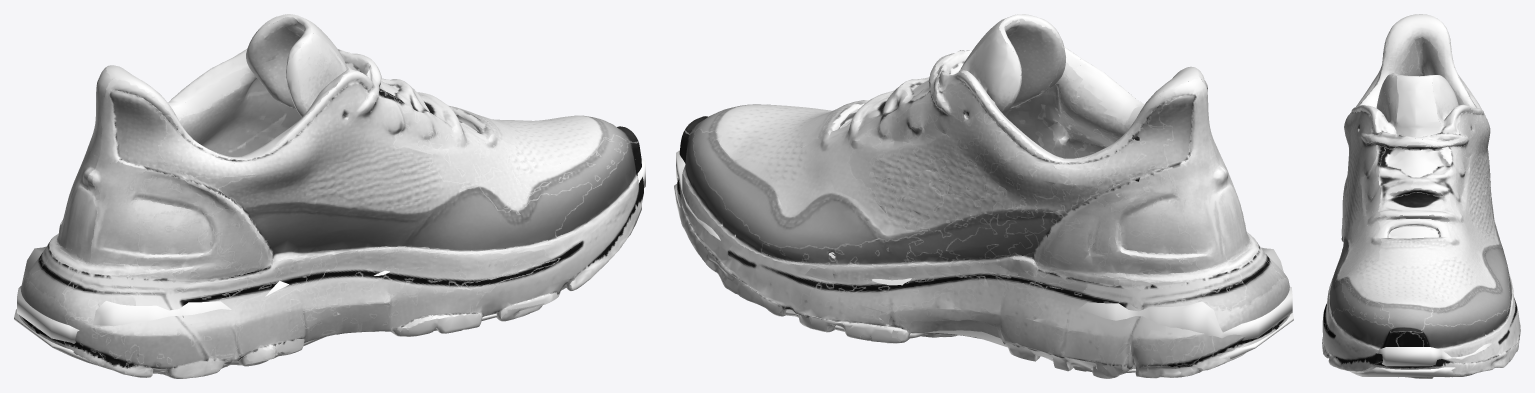
The model's file is runner-hybrid.glb.
3 views of the same model, side by side, from view 1: azimuth 30°, elevation 25°; view 2: azimuth 150°, elevation 25°; view 3: azimuth 270°, elevation 25° (orthographic). The views are drawn at different scales.
Visible parts, largest first — view 1: upper, midsole, clip, outsole; view 2: upper, midsole, clip, outsole; view 3: upper, midsole, outsole.
Part boxes in pixels (x1,y1,x2,y2): upper: (26, 14, 639, 328); midsole: (17, 142, 645, 368); clip: (57, 145, 272, 283); outsole: (14, 199, 642, 378); upper: (679, 14, 1286, 311); midsole: (676, 150, 1292, 369); clip: (1033, 145, 1249, 290); outsole: (674, 183, 1293, 378); upper: (1328, 14, 1513, 350); midsole: (1322, 176, 1520, 368); outsole: (1322, 224, 1520, 378).
Size of the model in its own units: 29 by 13.83 by 11.27.
Materials: 5 (5 with a texture image).
